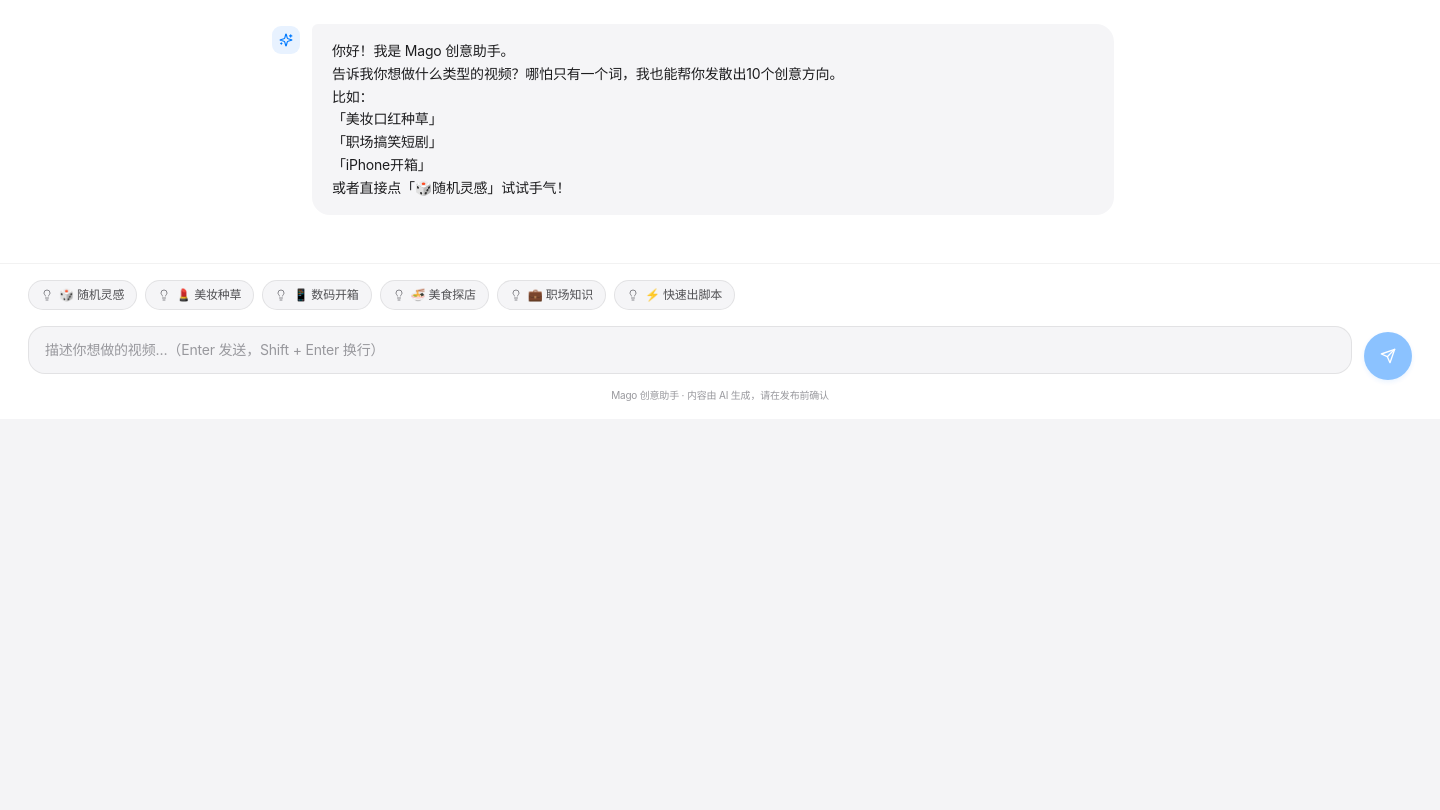
Scenario: ChatInterface HITL gate › hides the gate banner once the run resumes
The width and height of the screenshot is (1440, 810).
Type "口红测评" into the text box. click: (690, 350)
box: [28,326,1352,374]
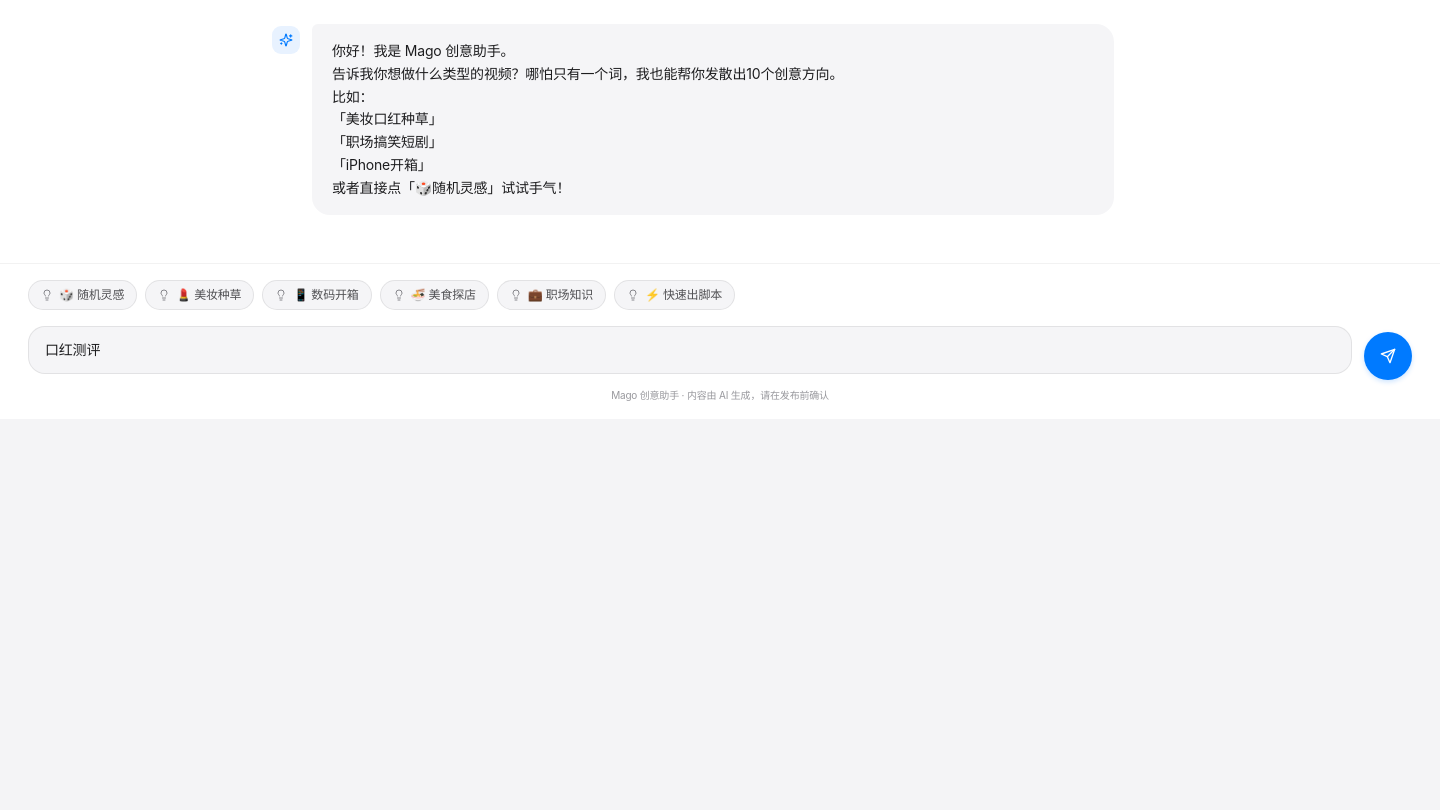
Click the button named "发送消息". click: click(1388, 356)
box: [1364,332,1412,380]
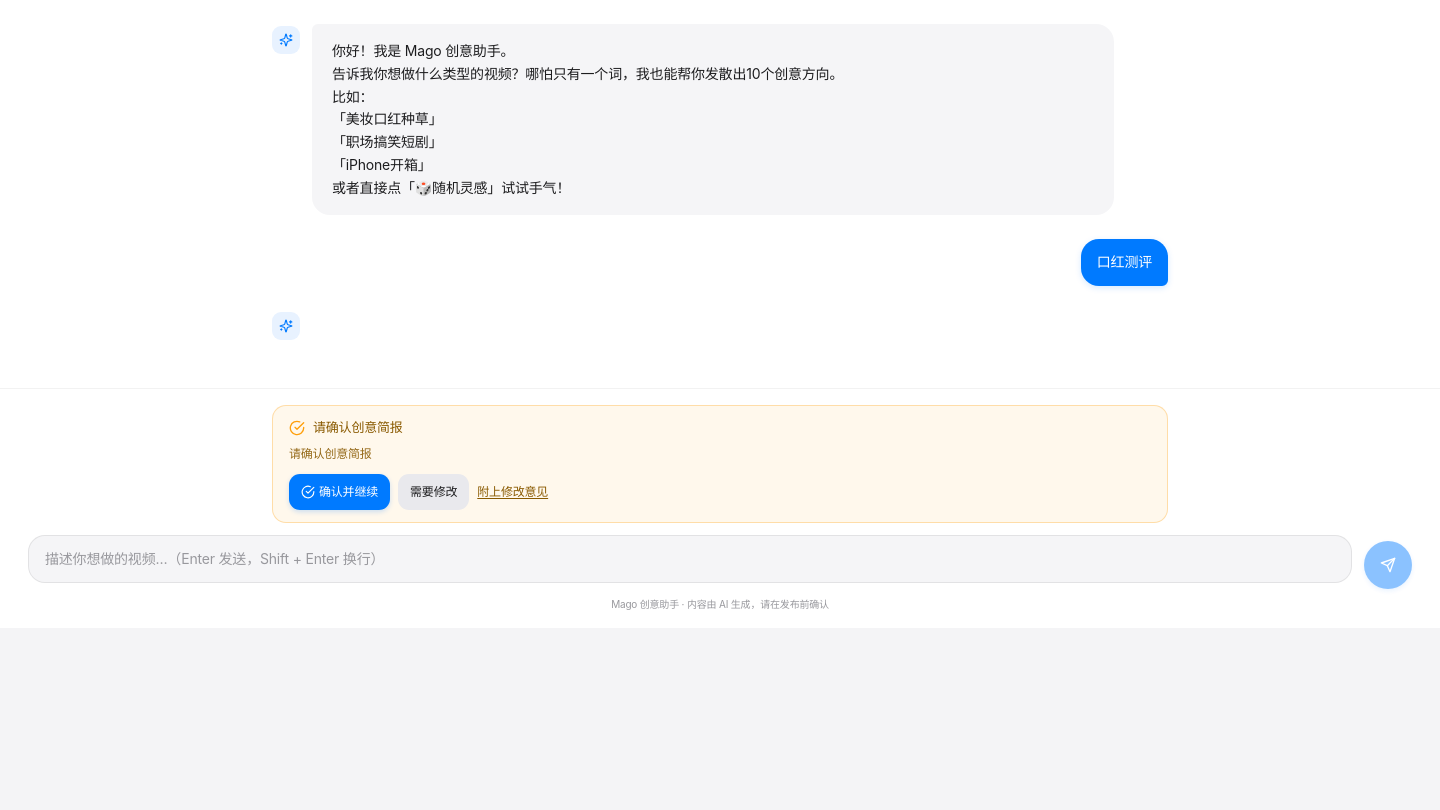
Click the button "确认并继续". click: click(340, 492)
box: [289,474,390,510]
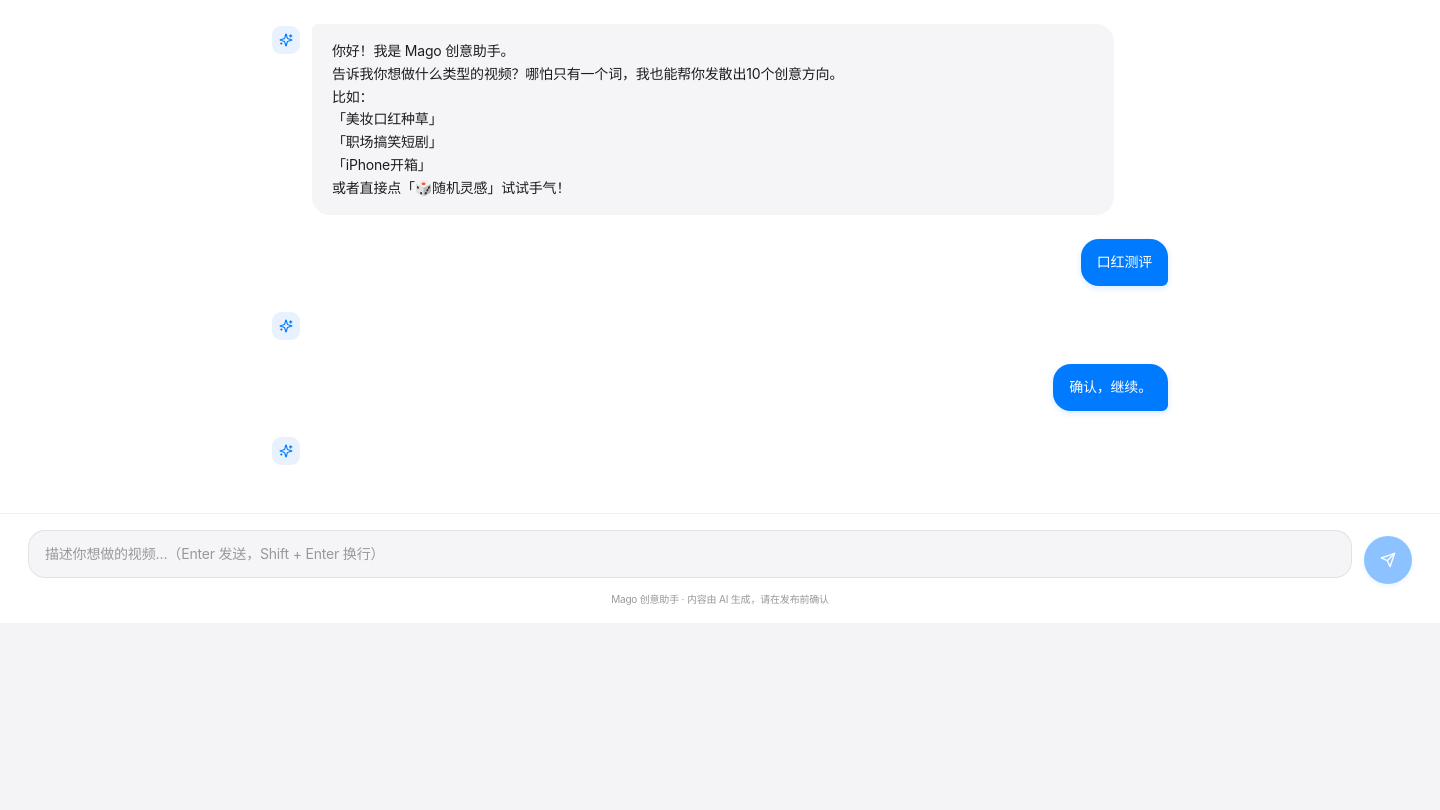
Now the text "请确认创意简报" is gone
